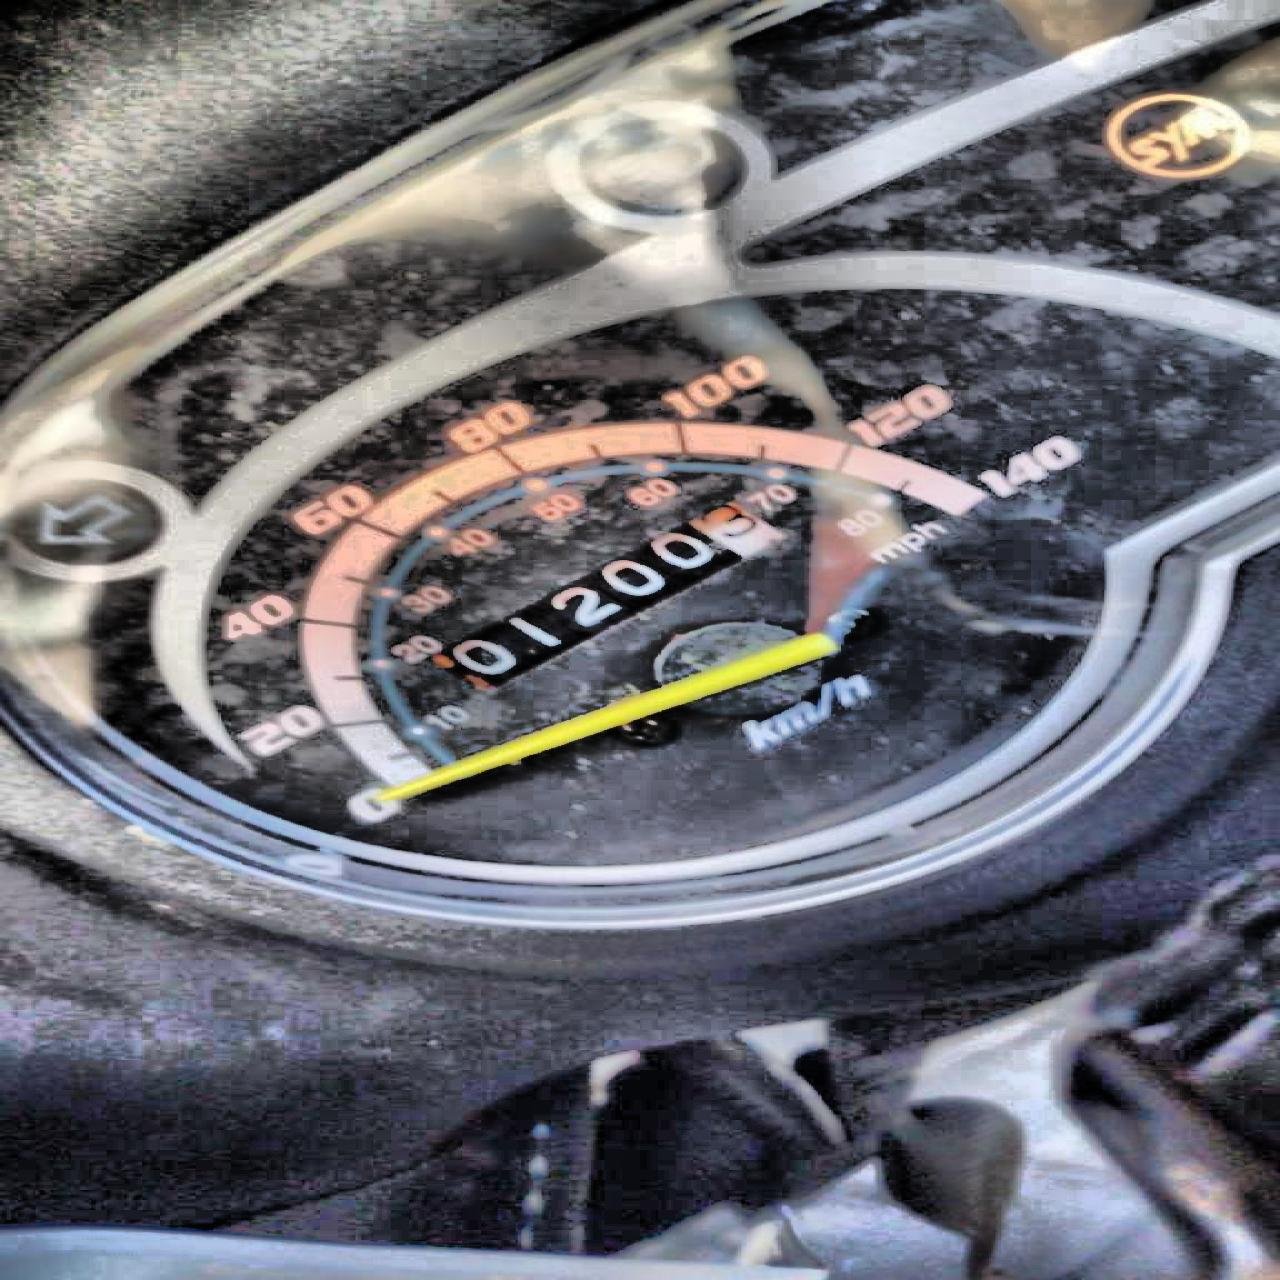0: (595, 559, 667, 597), (449, 638, 516, 675), (647, 531, 712, 568), (458, 527, 493, 546), (407, 635, 441, 653), (415, 585, 449, 602), (546, 492, 578, 511)
1: (504, 617, 558, 646)
2: (546, 586, 620, 625)
3: (697, 504, 756, 536)
4: (447, 536, 476, 554)
5: (529, 501, 563, 520)
odometer: (420, 501, 789, 690)
